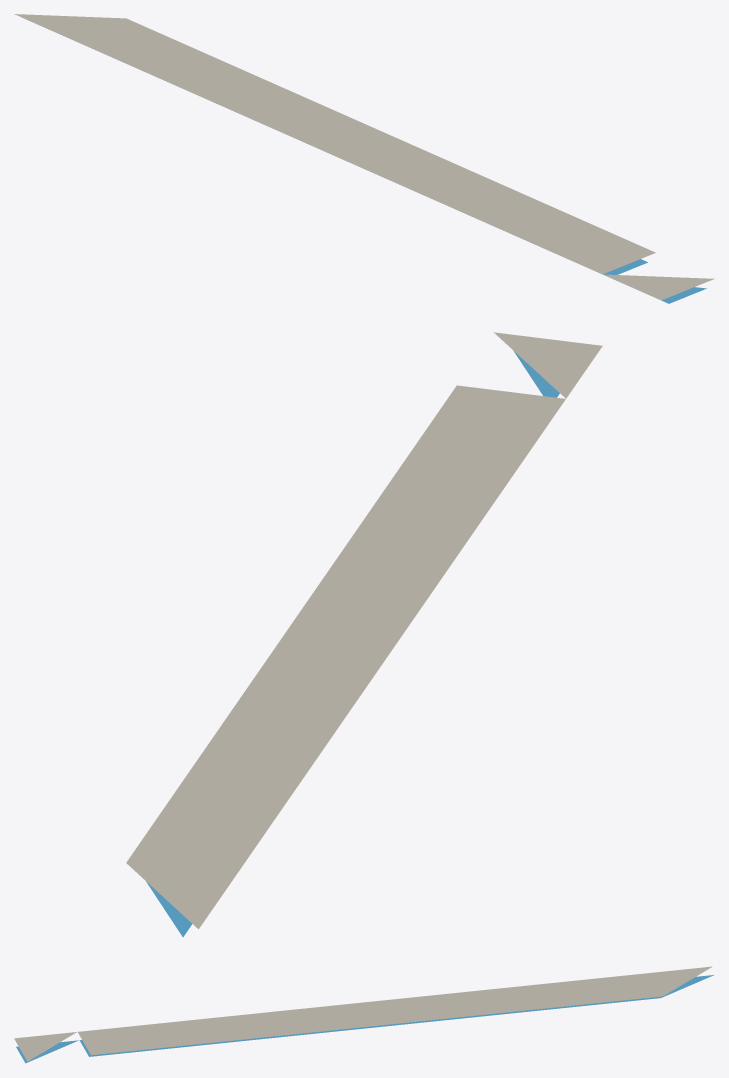
The picture shows the model from 3 angles, top to bottom: view 1: azimuth 30°, elevation 25°; view 2: azimuth 150°, elevation 25°; view 3: azimuth 270°, elevation 25°; orthographic projection. The views are drawn at different scales.
Visible parts, largest first — view 1: estructura_terreno, estructura_agua; view 2: estructura_terreno, estructura_agua; view 3: estructura_terreno, estructura_agua.
Boxes of the visible parts, x1,y1,x2,y2 form: estructura_terreno: (14,14,714,300); estructura_agua: (48,29,706,303); estructura_terreno: (126,332,602,929); estructura_agua: (146,351,559,936); estructura_terreno: (14,966,712,1061); estructura_agua: (16,975,713,1063).
Bounding box in the file's own units: 16.64 × 0.41 × 51.71.
